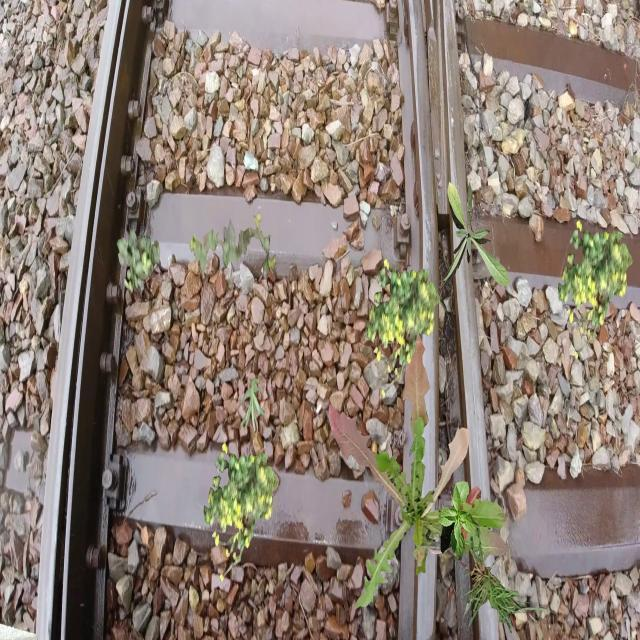Plant: (329, 331, 509, 609), (416, 514, 560, 634), (204, 443, 279, 583), (558, 220, 633, 360), (366, 259, 441, 399), (438, 181, 510, 289), (189, 212, 276, 280), (438, 481, 480, 561), (117, 227, 160, 294), (239, 377, 266, 434)
